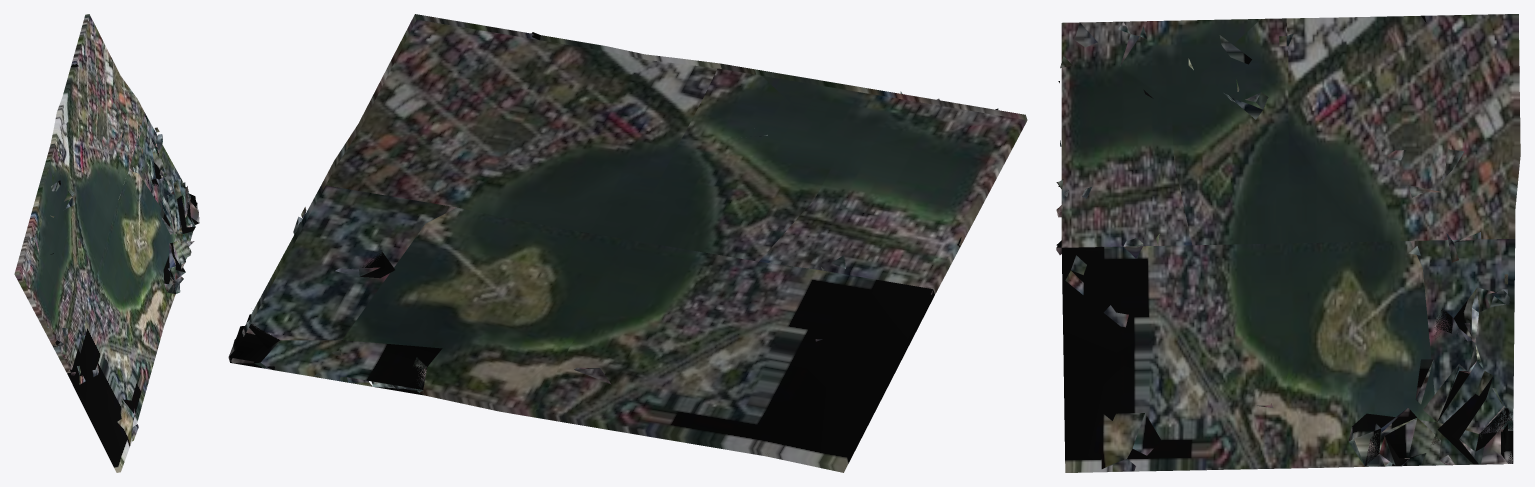
3 renders of one model, left to right at view 1: azimuth 30°, elevation 25°; view 2: azimuth 150°, elevation 25°; view 3: azimuth 270°, elevation 25°, orthographic. The views are drawn at different scales.
Parts seen in each view (by area): view 1: node_304362727043724_mesh0; view 2: node_304362727043724_mesh0; view 3: node_304362727043724_mesh0.
Part boxes in pixels (bbox=[...]): node_304362727043724_mesh0: bbox=[14, 14, 199, 472]; node_304362727043724_mesh0: bbox=[228, 14, 1027, 472]; node_304362727043724_mesh0: bbox=[1056, 14, 1520, 472].
Bounding box in the file's own units: 1169 × 1167 × 900.
1 material, 1 textured.
